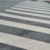others: (1, 13, 47, 49)
